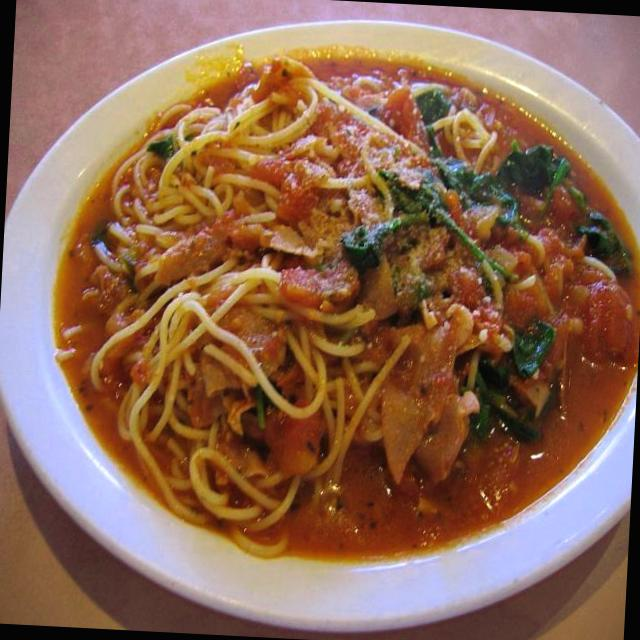Pasta: (34, 9, 640, 579)
